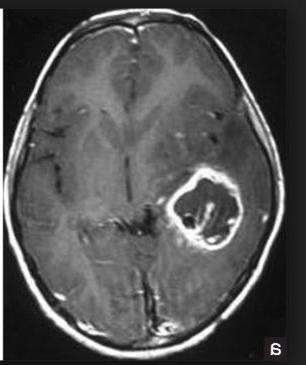Tumor: (159, 162, 249, 251)
